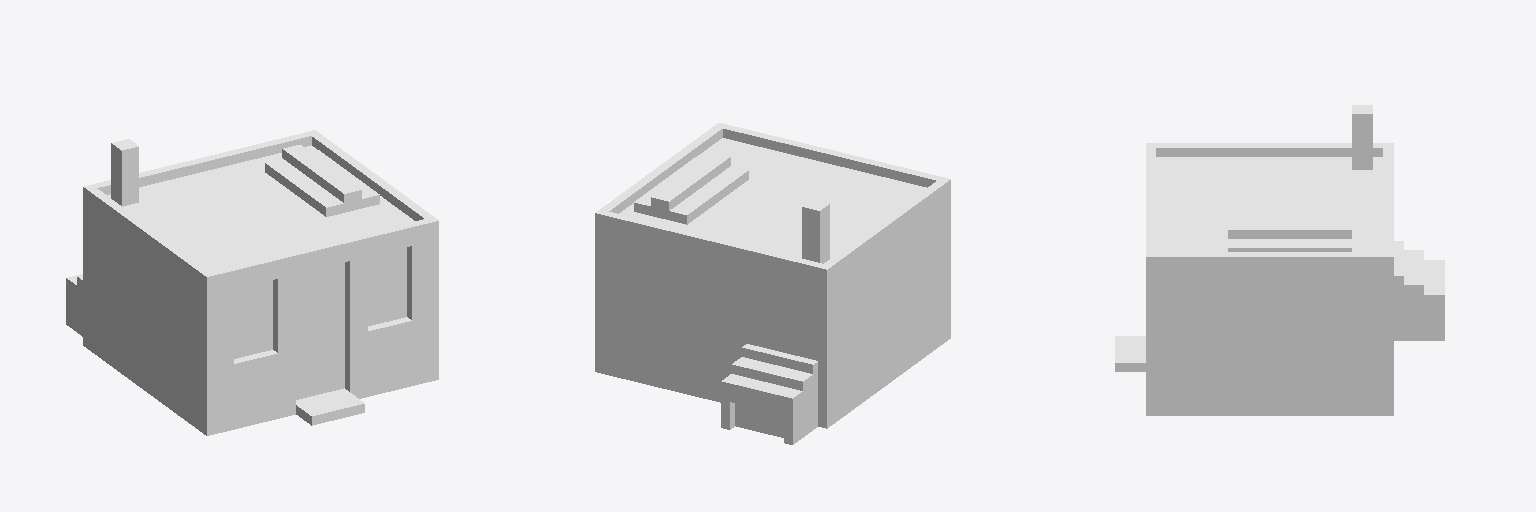
Rendered from house.obj.
3 renders of one model, left to right at view 1: azimuth 30°, elevation 25°; view 2: azimuth 150°, elevation 25°; view 3: azimuth 270°, elevation 25°, orthographic.
Size of the model in its own units: 26 by 22 by 32.